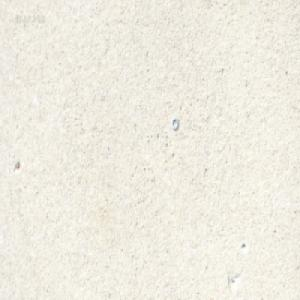Washer: (171, 115, 179, 130)
